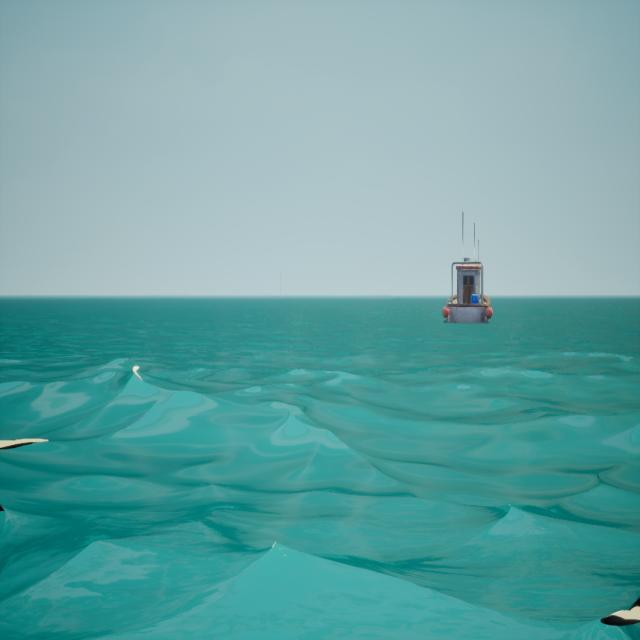ship: (439, 204, 497, 334)
